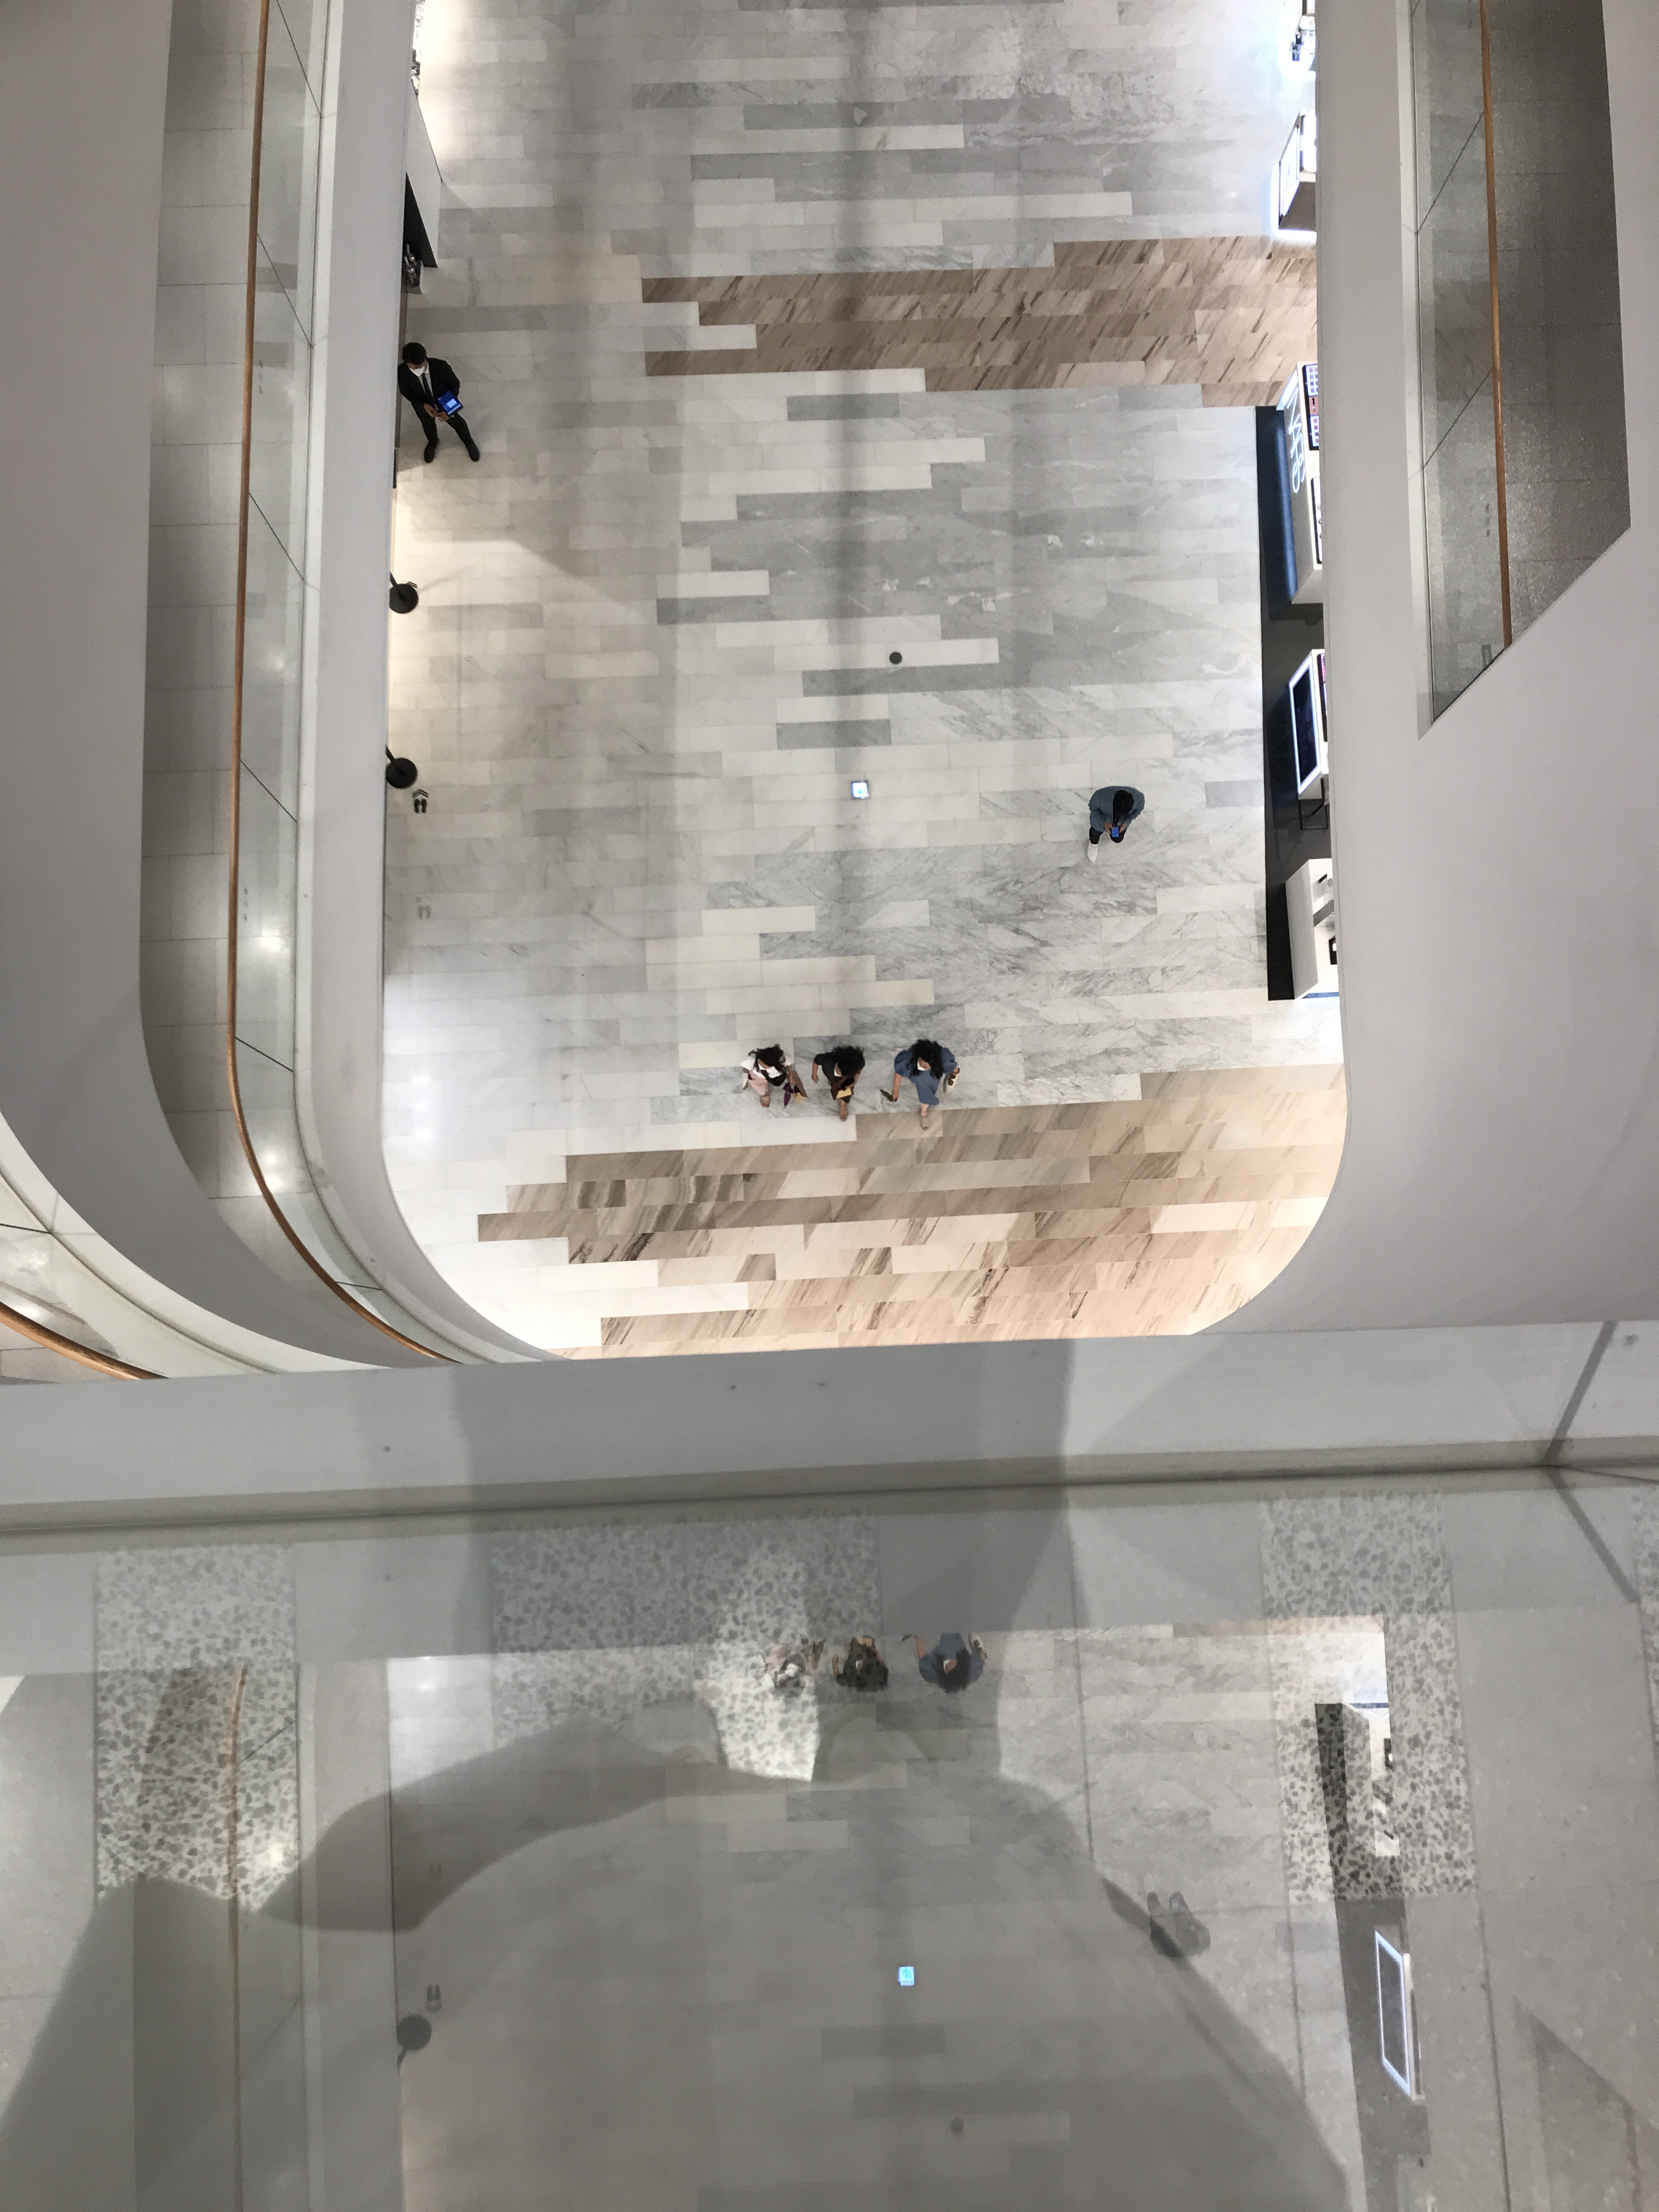person: (393, 341, 482, 464), (880, 1037, 959, 1136), (736, 1037, 810, 1116), (1086, 783, 1147, 865), (810, 1045, 865, 1121)
